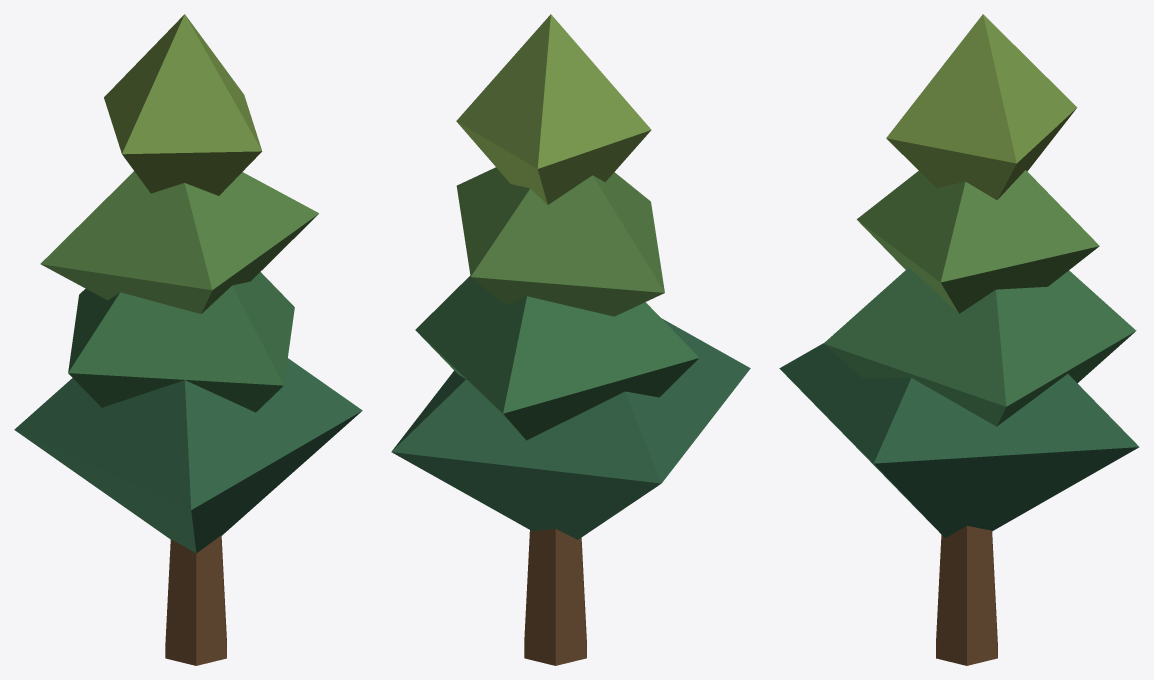
The model's file is tree-pine-canopy-5.gltf.
The picture shows the model from 3 angles, left to right: view 1: azimuth 30°, elevation 25°; view 2: azimuth 150°, elevation 25°; view 3: azimuth 270°, elevation 25°; orthographic projection.
Parts seen in each view (by area): view 1: tree-pine-canopy-5; view 2: tree-pine-canopy-5; view 3: tree-pine-canopy-5.
Boxes of the visible parts, x1,y1,x2,y2 form: tree-pine-canopy-5: [14, 14, 362, 665]; tree-pine-canopy-5: [391, 14, 750, 665]; tree-pine-canopy-5: [779, 14, 1139, 665].
Size of the model in its own units: 0.8282 by 1.9 by 0.9765.
